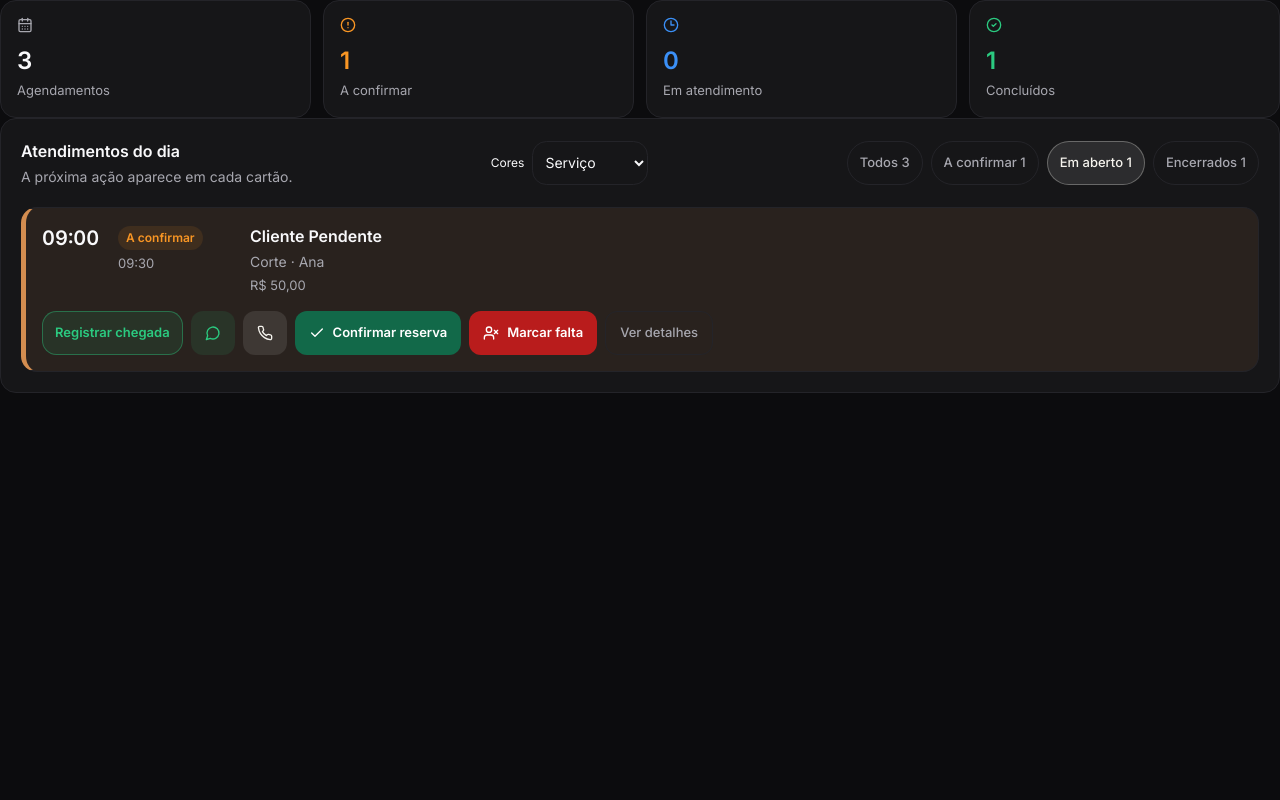
Test case: HojeView › abre em Em aberto, sem cancelados misturados, e Todos continua disponível
Check: the text "Cliente Pendente" is shown, box [250,226,382,246]
Check: the text "Cliente Cancelado" is not shown
What coordinates should you click on to do the following:
click the button "Todos 3"
I would click on:
 (885, 162)
Its box is [847,140,922,184].
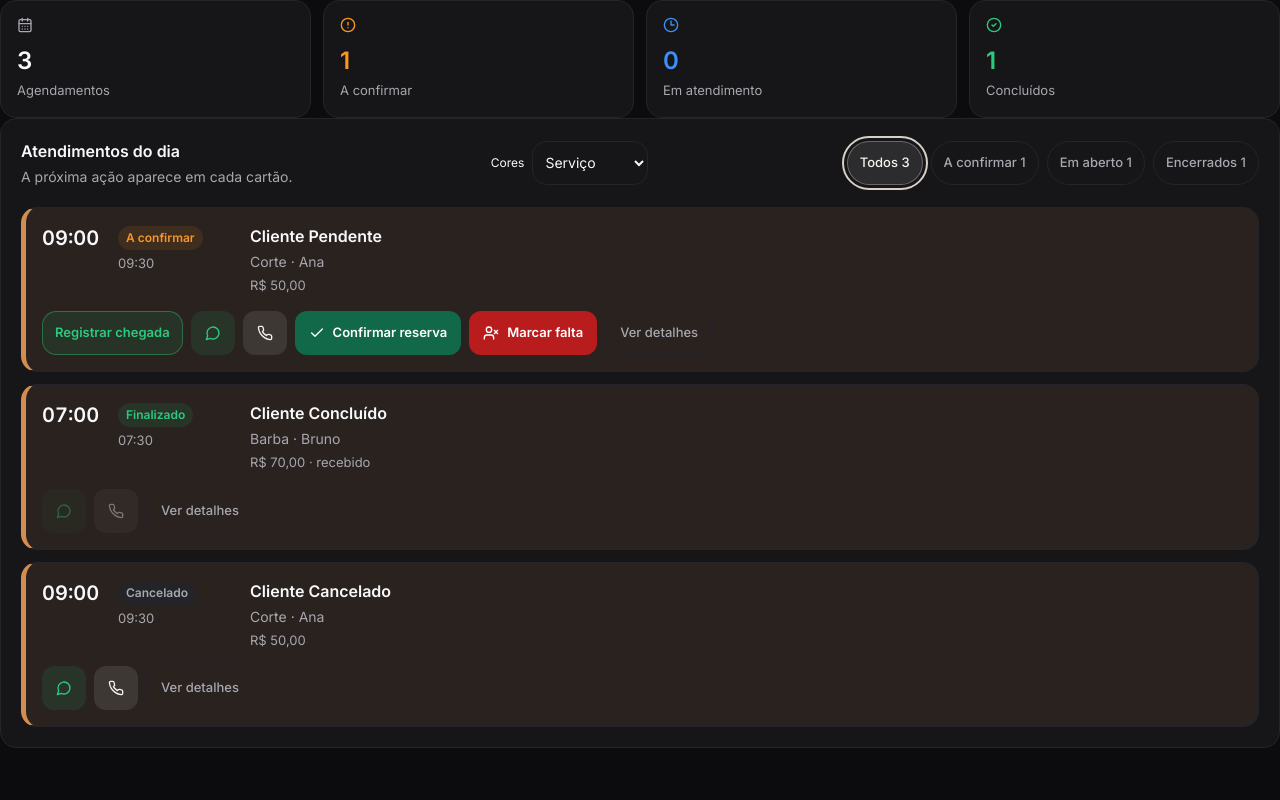
Check: the text "Cliente Cancelado" is shown, box [250,580,391,600]
Check: the text "Cliente Concluído" is shown, box [250,403,387,423]
